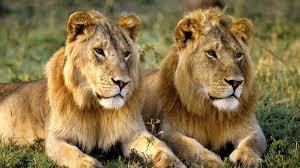lions: (167, 12, 280, 168), (45, 10, 154, 168)
